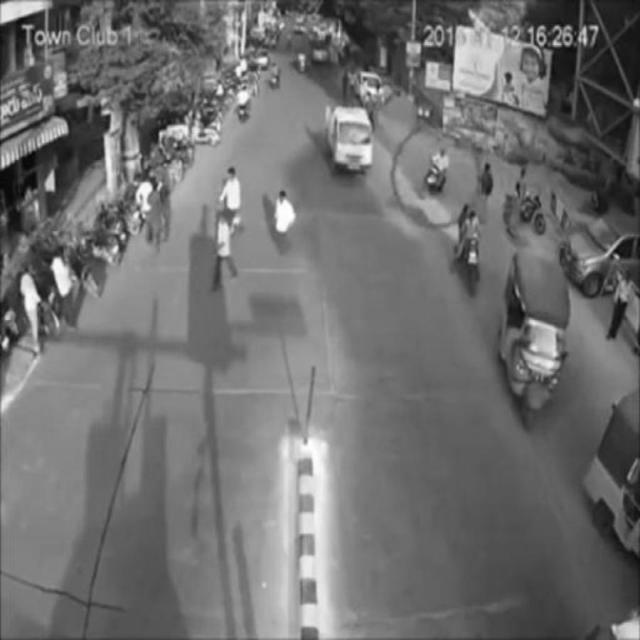person: (211, 211, 239, 291), (271, 190, 298, 260), (221, 165, 247, 235)
vehicle: (496, 250, 572, 430), (324, 103, 374, 179), (455, 202, 482, 300), (424, 145, 450, 196)
